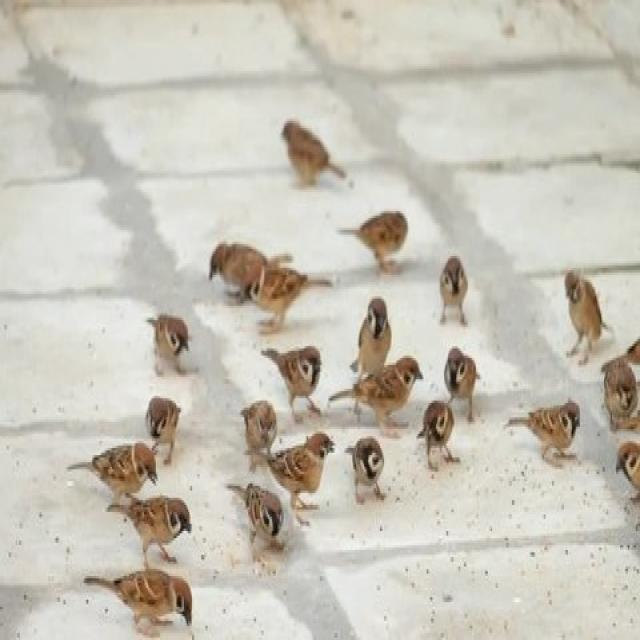bird: (330, 348, 424, 436), (85, 570, 199, 631), (105, 496, 197, 568), (66, 439, 160, 496), (504, 399, 580, 468), (337, 212, 410, 283), (280, 120, 348, 190), (564, 270, 610, 368), (416, 393, 461, 479), (266, 345, 322, 414), (350, 297, 390, 386), (438, 342, 482, 420), (143, 310, 194, 374), (435, 255, 471, 321), (142, 396, 181, 455)
